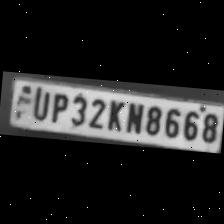2: (86, 94, 106, 128)
3: (66, 90, 88, 126)
6: (161, 102, 182, 138), (179, 106, 200, 140)
8: (197, 106, 220, 142), (142, 101, 163, 135)
K: (102, 95, 125, 131)
N: (121, 98, 144, 134)
P: (48, 88, 70, 122)
U: (30, 84, 52, 120)
